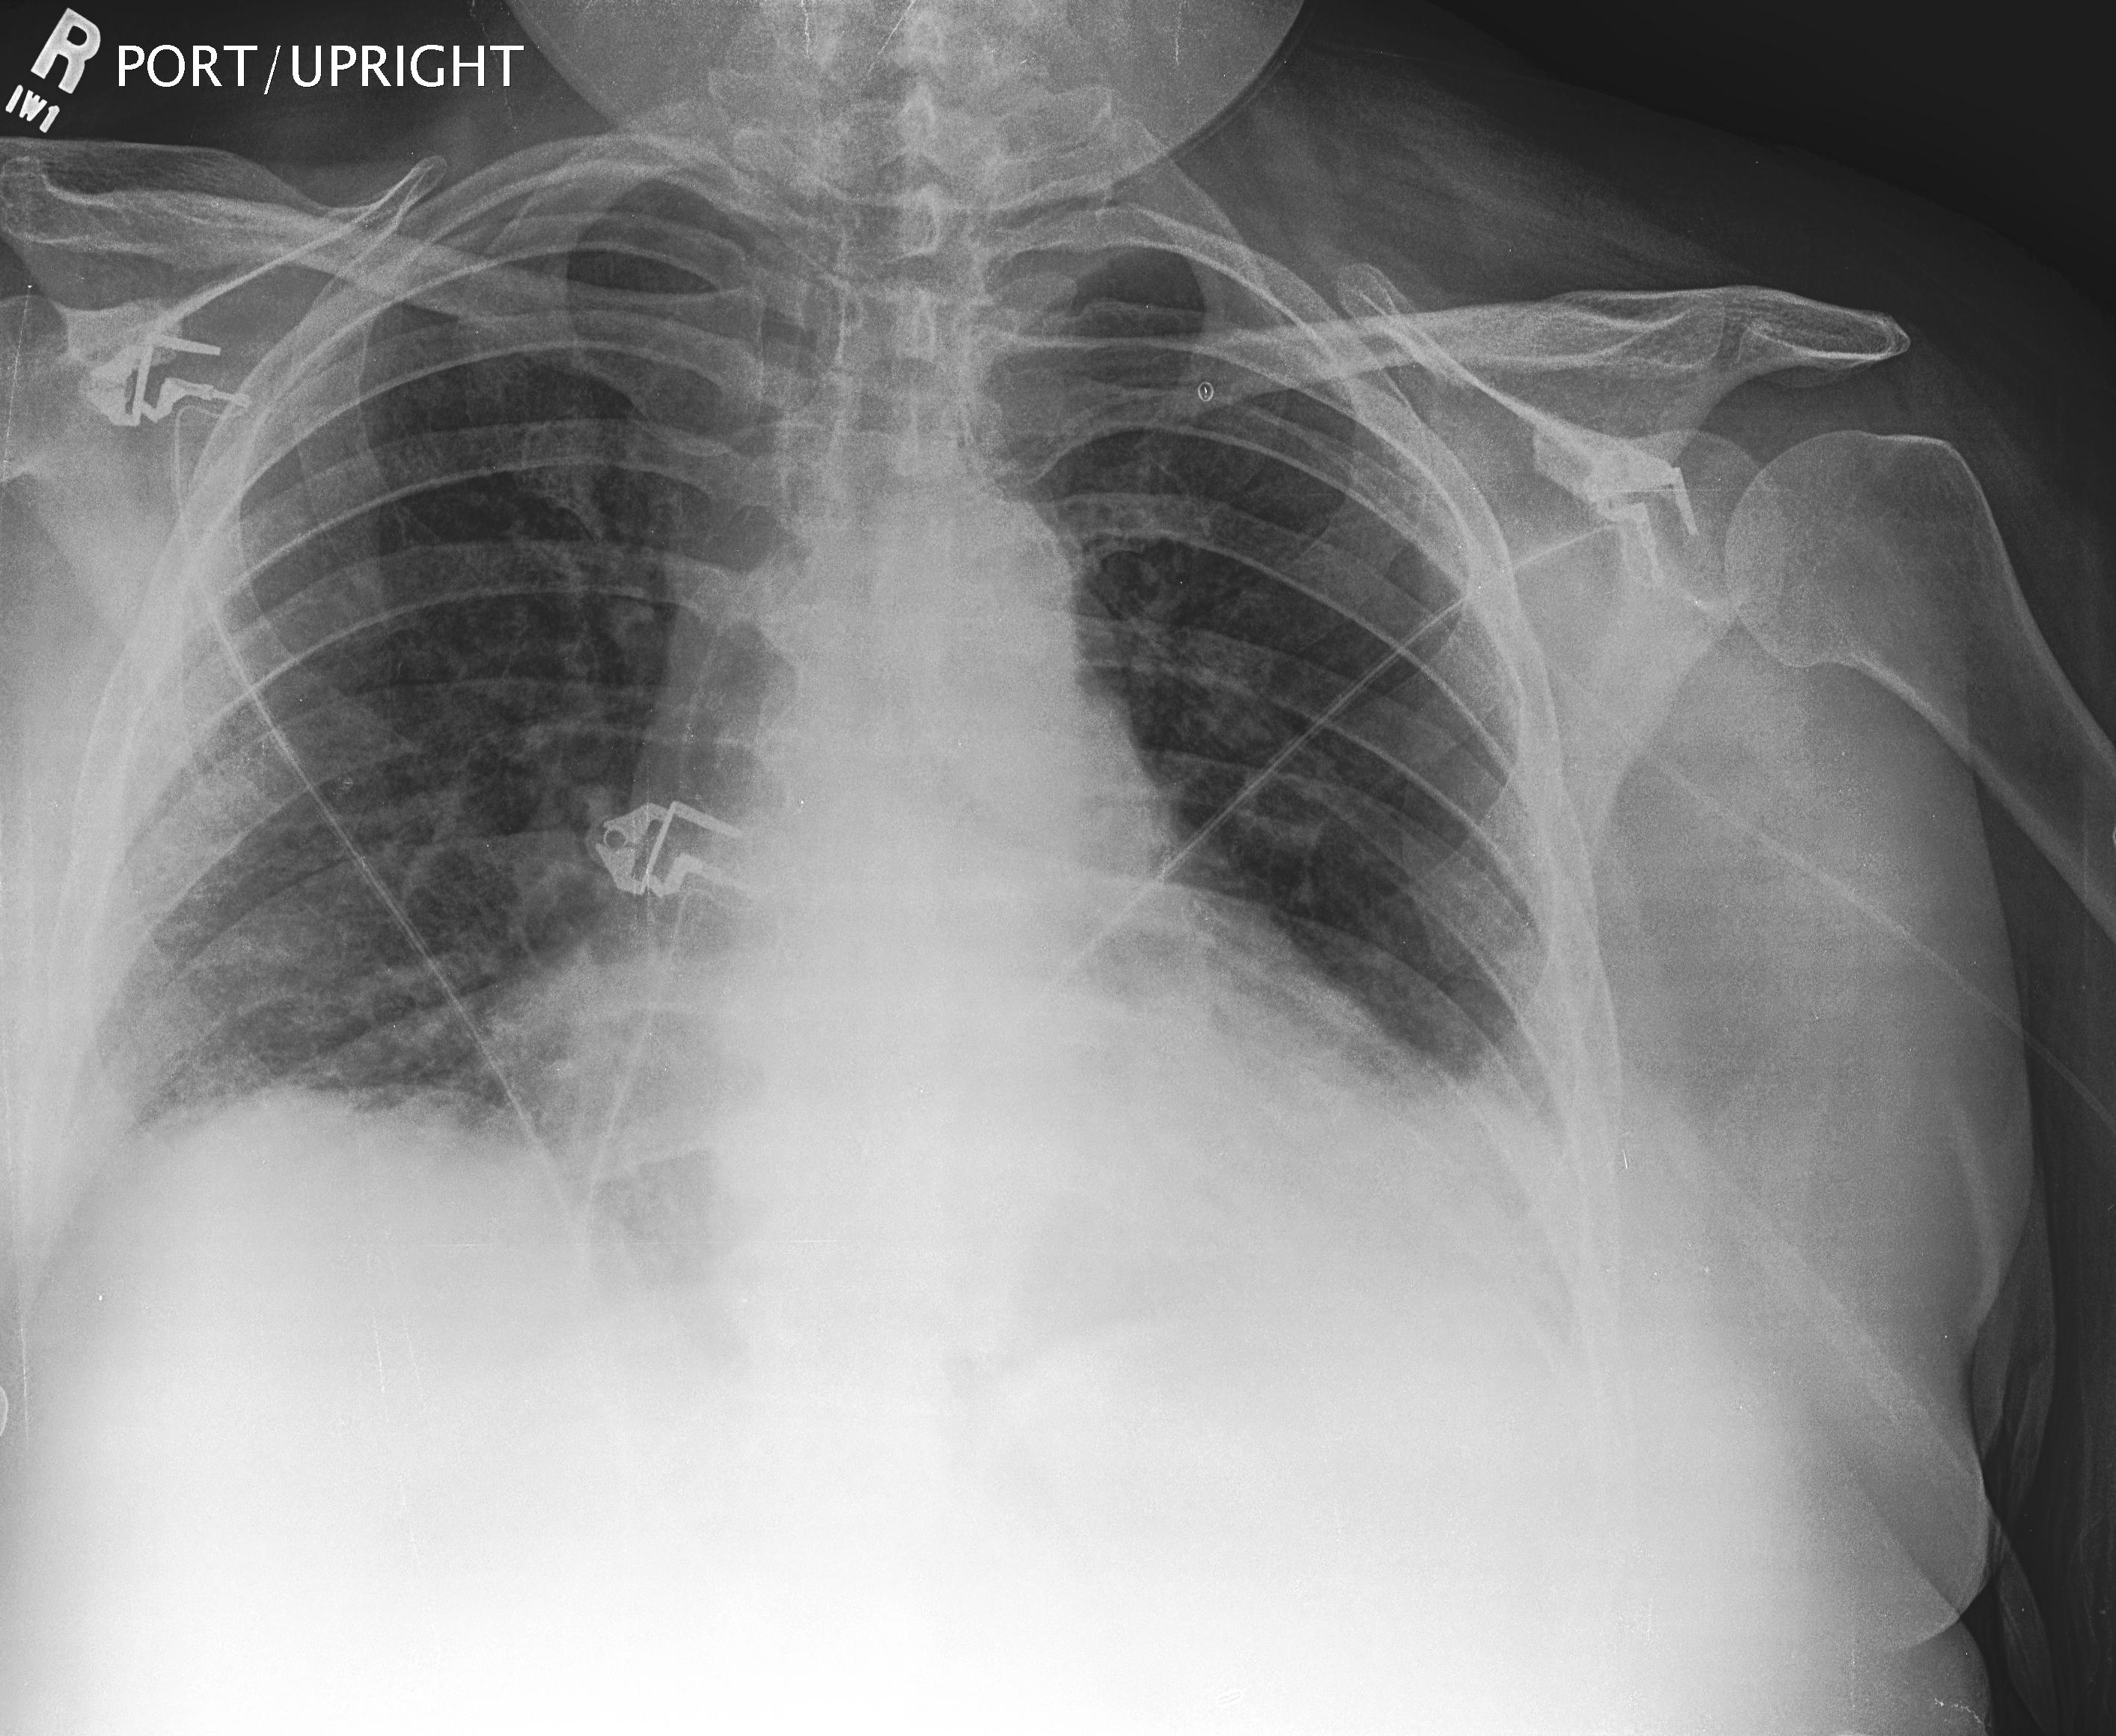Pleural Effusion: (1223, 1054, 1622, 1443), (25, 1133, 457, 1392)
